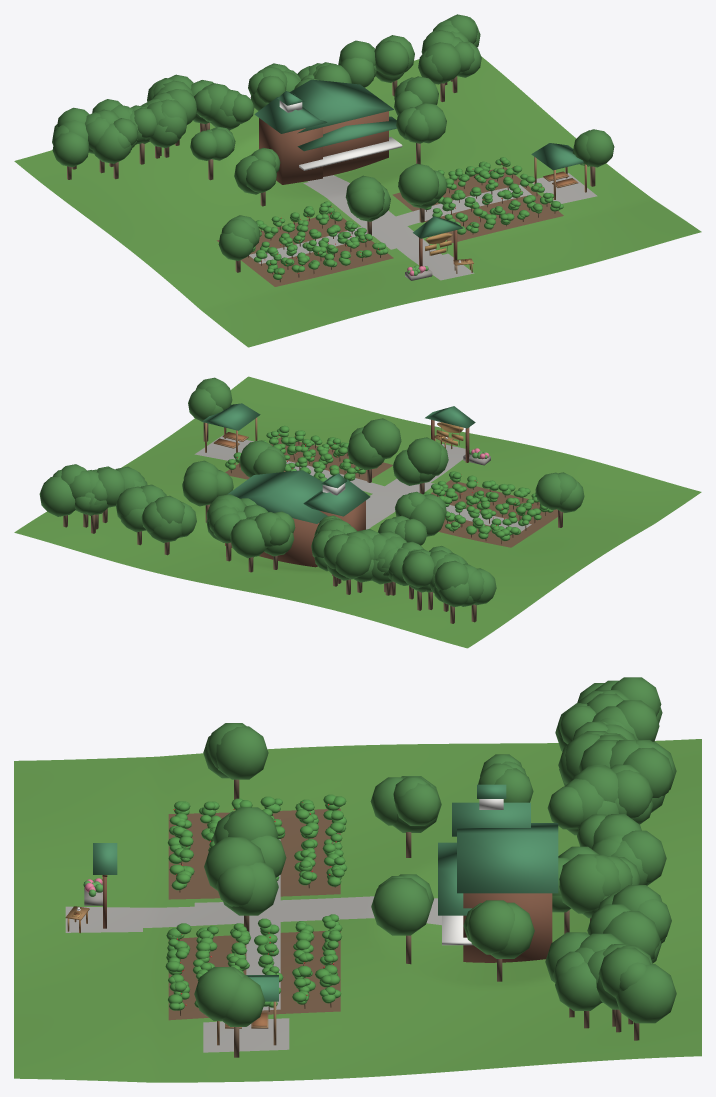
File: Recorrido_finca.fbx
The picture shows the model from 3 angles, top to bottom: view 1: azimuth 30°, elevation 25°; view 2: azimuth 150°, elevation 25°; view 3: azimuth 270°, elevation 25°; orthographic projection. The views are drawn at different scales.
Visible parts, largest first — view 1: Terreno_Finca, Bosque_Finca, Casa_Finca_Lerida, Parcelas_Y_Tour_Cafe, Entrada_Finca; view 2: Terreno_Finca, Bosque_Finca, Parcelas_Y_Tour_Cafe, Casa_Finca_Lerida, Entrada_Finca; view 3: Terreno_Finca, Bosque_Finca, Casa_Finca_Lerida, Parcelas_Y_Tour_Cafe, Entrada_Finca.
Boxes of the visible parts, <box> form: Terreno_Finca: <box>14,56,701,347</box>; Bosque_Finca: <box>52,14,614,272</box>; Casa_Finca_Lerida: <box>254,79,402,184</box>; Parcelas_Y_Tour_Cafe: <box>223,143,586,282</box>; Entrada_Finca: <box>405,216,473,280</box>; Terreno_Finca: <box>14,376,701,648</box>; Bosque_Finca: <box>39,377,584,623</box>; Parcelas_Y_Tour_Cafe: <box>202,403,553,544</box>; Casa_Finca_Lerida: <box>225,470,370,567</box>; Entrada_Finca: <box>425,406,490,465</box>; Terreno_Finca: <box>14,739,701,1082</box>; Bosque_Finca: <box>194,677,676,1057</box>; Casa_Finca_Lerida: <box>438,784,558,962</box>; Parcelas_Y_Tour_Cafe: <box>165,794,346,1045</box>; Entrada_Finca: <box>65,843,117,933</box>.
Bounding box in the file's own units: 3800 × 676 × 3400.
